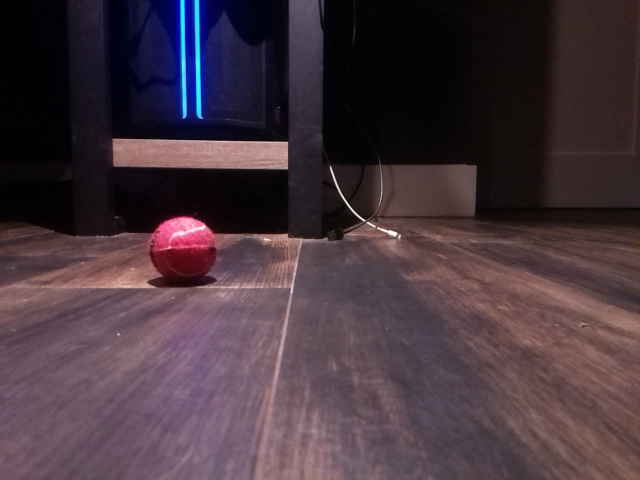red-ball: (147, 214, 218, 286)
